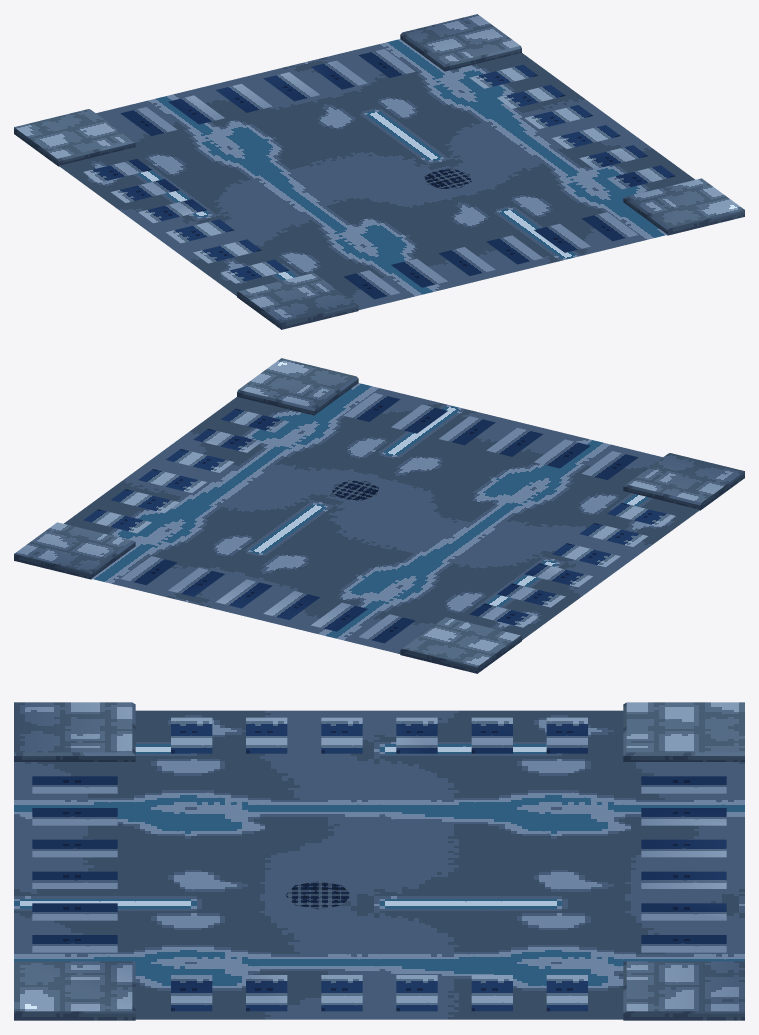
Rendered from cystreet.crossing.glb.
3 views of the same model, one above another, from view 1: azimuth 30°, elevation 25°; view 2: azimuth 150°, elevation 25°; view 3: azimuth 270°, elevation 25° (orthographic). The views are drawn at different scales.
Parts seen in each view (by area): view 1: kit_shell_road, kit_card_paint, kit_walks; view 2: kit_shell_road, kit_card_paint, kit_walks; view 3: kit_shell_road, kit_card_paint, kit_walks.
Part boxes in pixels (x1,y1,x2,y2): kit_shell_road: (59, 39, 694, 309); kit_card_paint: (83, 49, 675, 299); kit_walks: (14, 14, 744, 329); kit_shell_road: (64, 383, 699, 653); kit_card_paint: (83, 393, 675, 643); kit_walks: (14, 358, 744, 673); kit_shell_road: (14, 710, 744, 1019); kit_card_paint: (32, 717, 726, 1011); kit_walks: (14, 702, 744, 1020).
Size of the model in its own units: 12 by 0.17 by 12.
5 materials, 5 textured.
